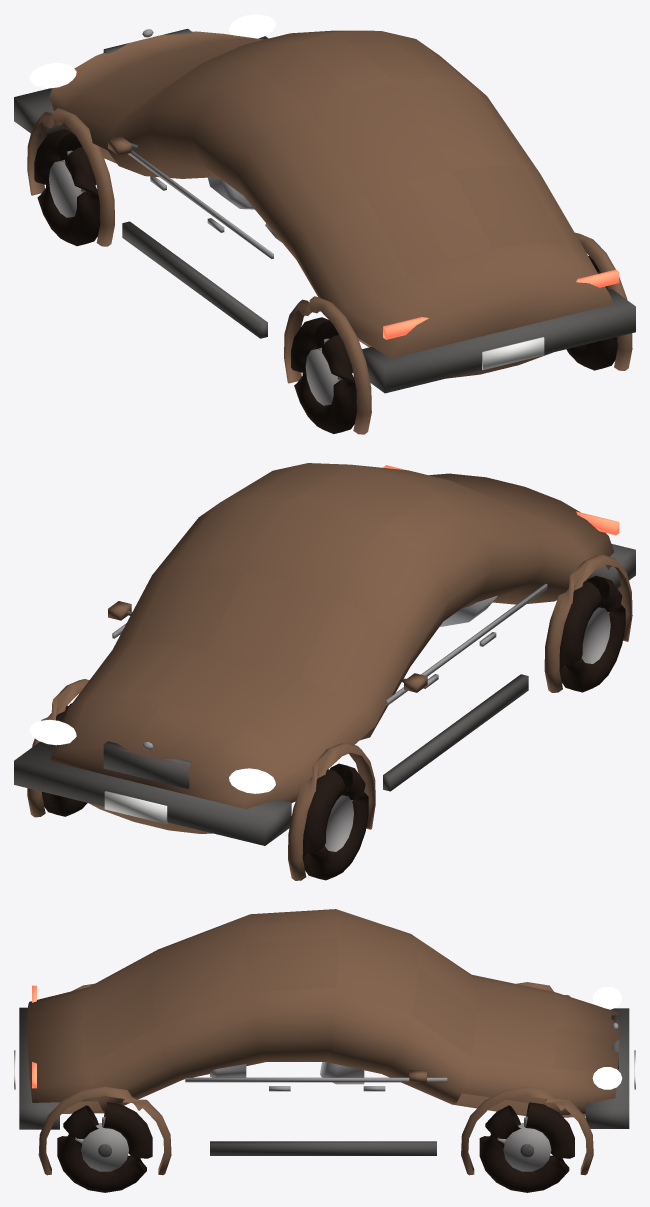
File: hatch.glb
The picture shows the model from 3 angles, top to bottom: view 1: azimuth 30°, elevation 25°; view 2: azimuth 150°, elevation 25°; view 3: azimuth 270°, elevation 25°; orthographic projection. The views are drawn at different scales.
Parts seen in each view (by area): view 1: Body, WheelFL, WheelRL, WheelRR; view 2: Body, WheelRL, WheelFL, WheelFR; view 3: Body, WheelFR, WheelRR.
Boxes of the visible parts, x1=… form: Body: x1=14, y1=14, x2=635, y2=434; WheelFL: x1=34, y1=129, x2=100, y2=246; WheelRL: x1=291, y1=317, x2=356, y2=433; WheelRR: x1=566, y1=256, x2=617, y2=370; Body: x1=14, y1=463, x2=635, y2=880; WheelRL: x1=559, y1=575, x2=625, y2=692; WheelFL: x1=302, y1=763, x2=368, y2=880; WheelFR: x1=42, y1=703, x2=87, y2=816; Body: x1=14, y1=909, x2=635, y2=1175; WheelFR: x1=479, y1=1102, x2=574, y2=1192; WheelRR: x1=57, y1=1102, x2=152, y2=1192.
Bounding box in the file's own units: 2.02 × 1.59 × 4.27.
9 materials, 6 textured.
